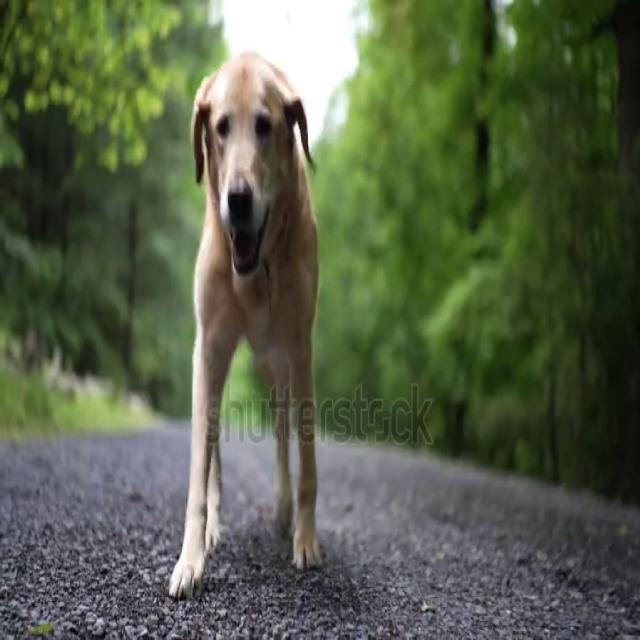normal_animals: (165, 47, 326, 603)
